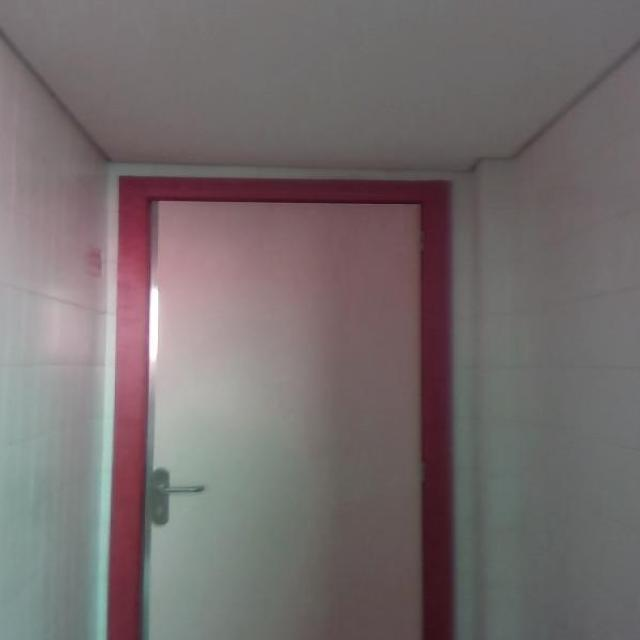door: (140, 192, 427, 639)
